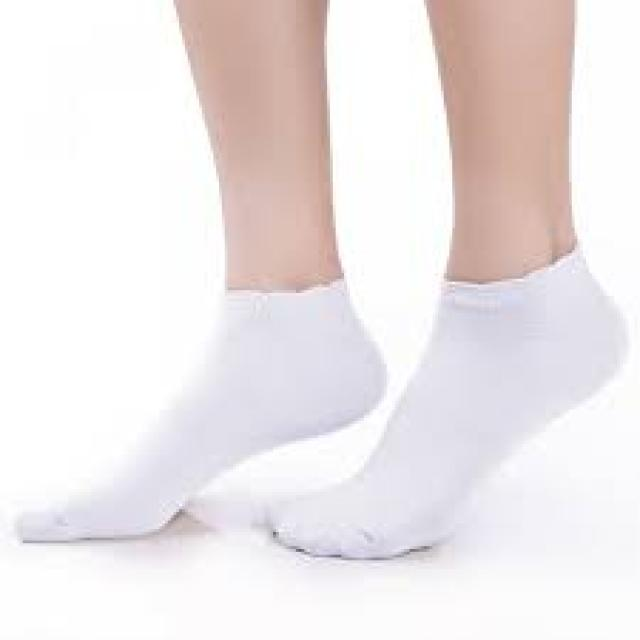sock: (264, 242, 628, 560), (14, 273, 387, 543)
